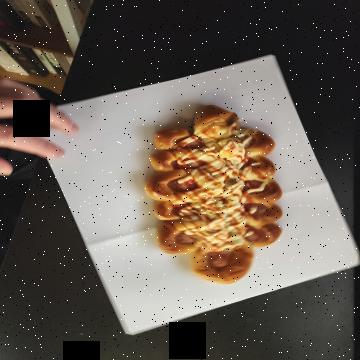pizza_bread: (103, 76, 279, 215)
